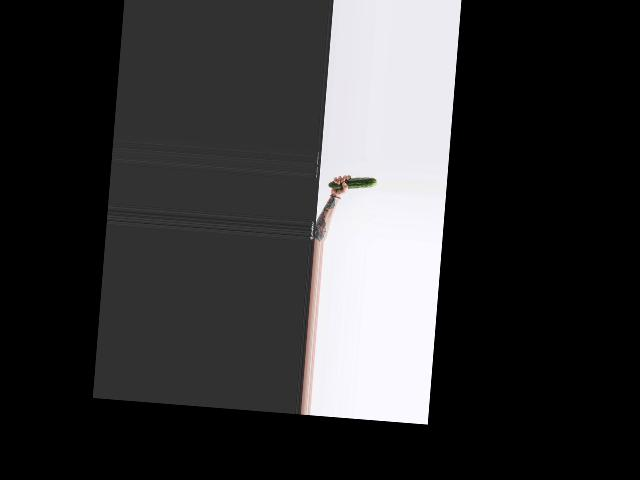cucumber: (328, 173, 377, 191)
